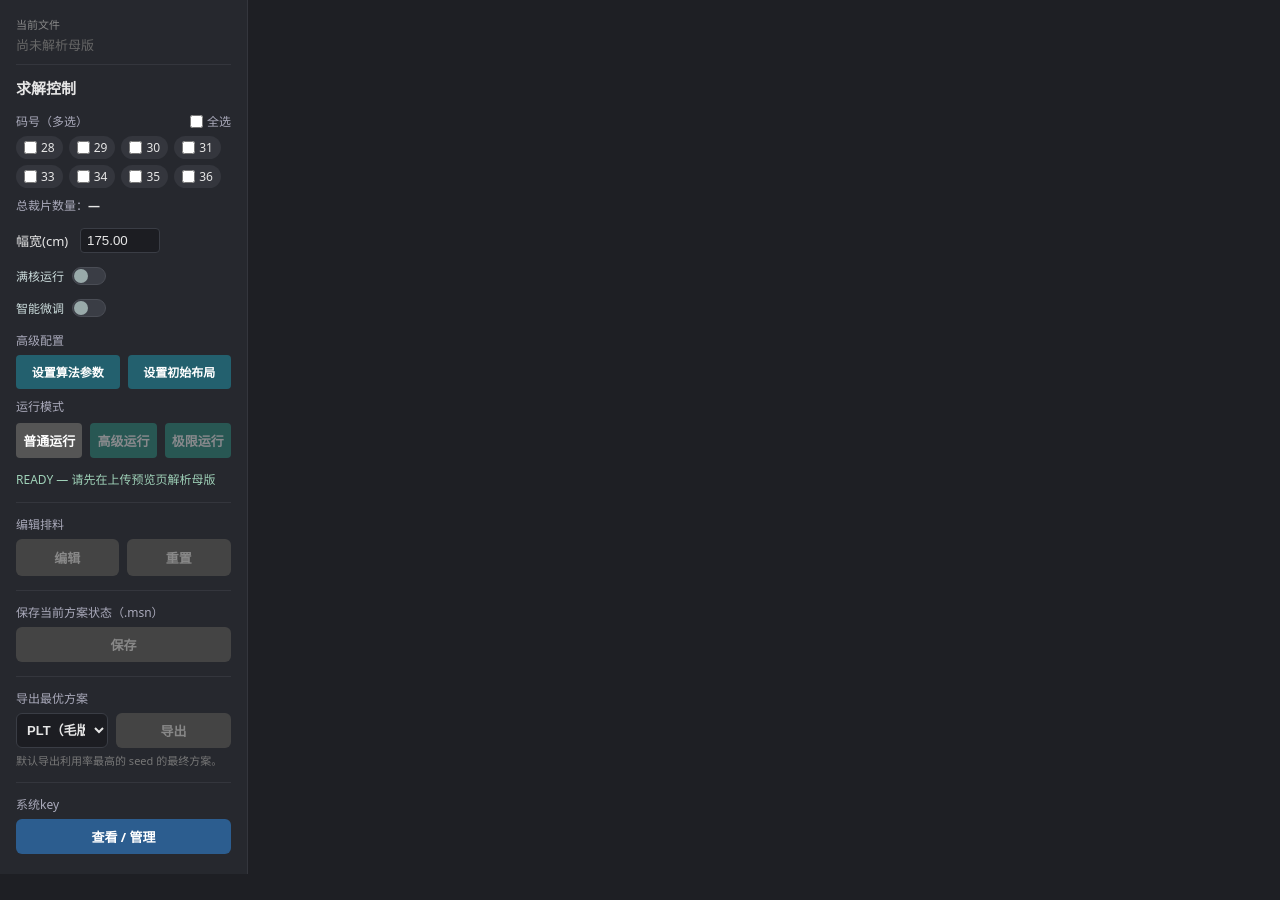
Test: ControlPanel per_type (US-018 button trigger) › AC#4 click button opens PerTypeOverridesModal (overlay+modal rendered)
This screenshot has width=1280, height=900.
Click the button "设置算法参数" at [68, 372], box [16,355,120,389]
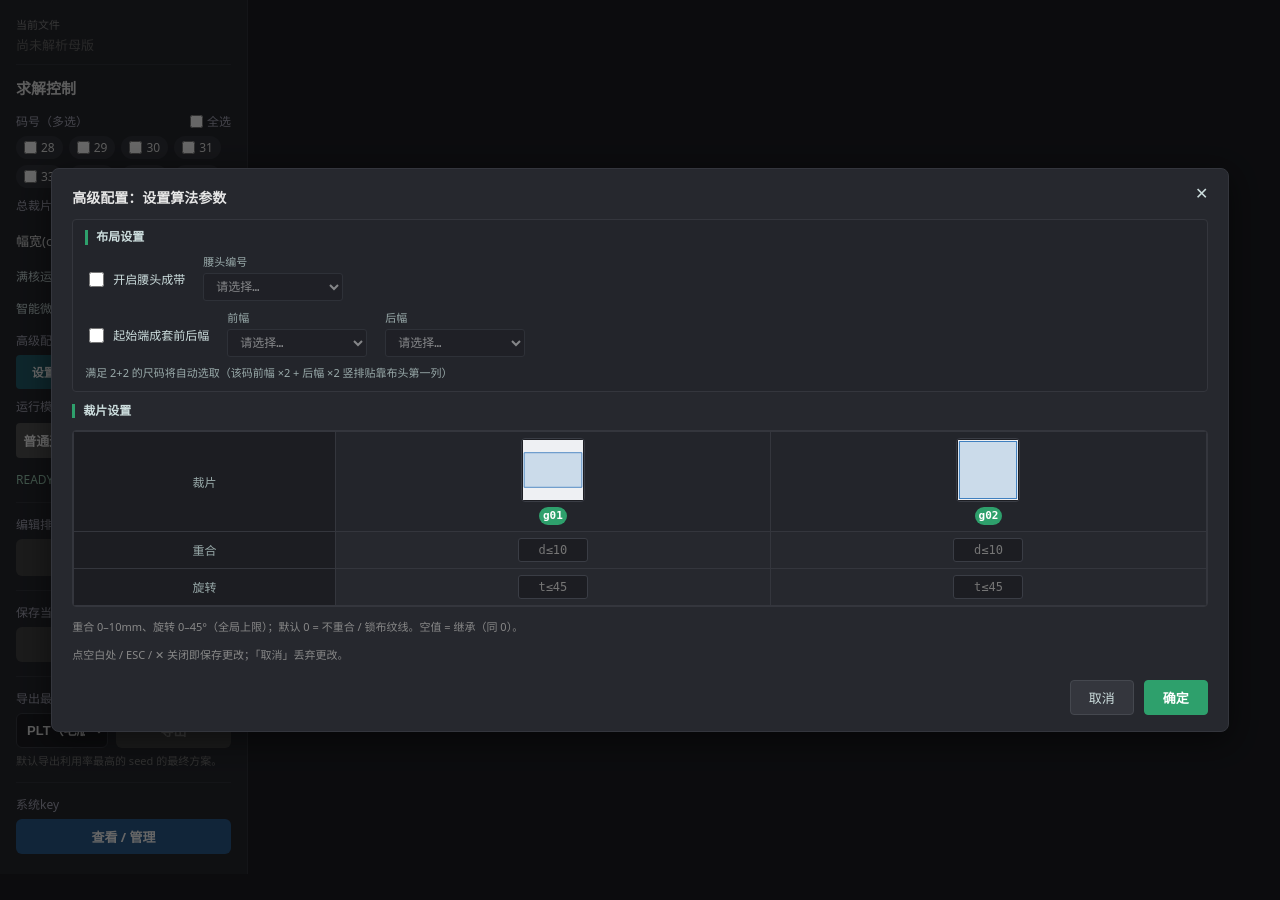
Check: the element that starts with "高级配置：设置算法参数" is shown
